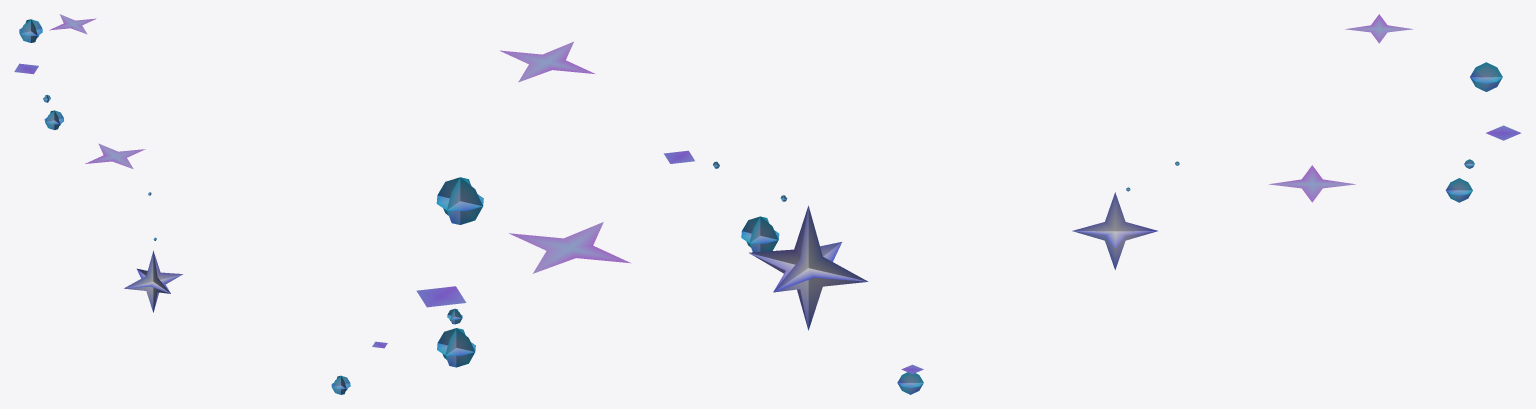
3 renders of one model, left to right at view 1: azimuth 30°, elevation 25°; view 2: azimuth 150°, elevation 25°; view 3: azimuth 270°, elevation 25°, orthographic. The views are drawn at different scales.
Visible parts, largest first — view 1: starcloud239; view 2: starcloud239; view 3: starcloud239.
Boxes of the visible parts, x1,y1,x2,y2 form: starcloud239: (14, 14, 387, 394); starcloud239: (416, 41, 868, 367); starcloud239: (897, 14, 1521, 394).
Bounding box in the file's own units: 0.2123 × 0.2799 × 0.5.
